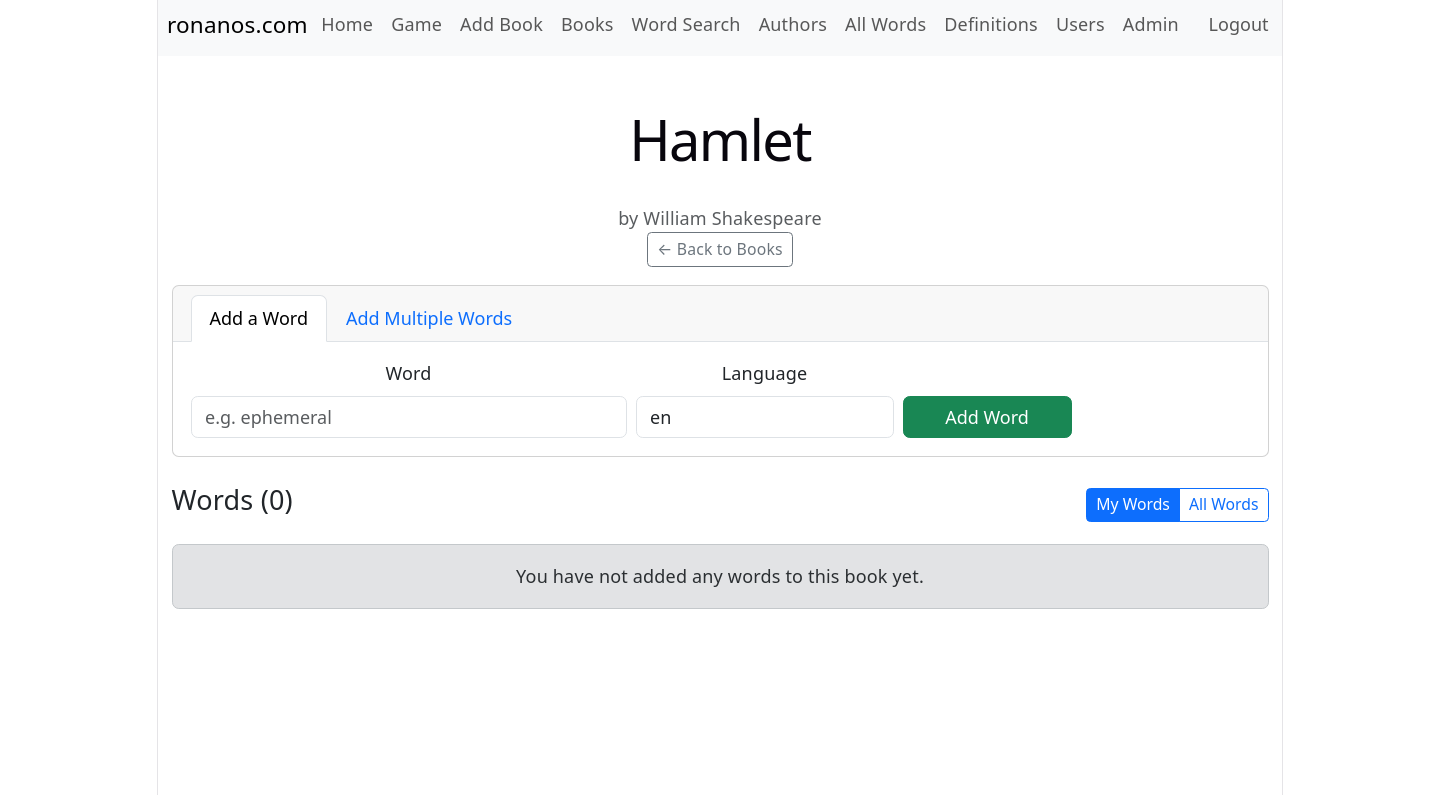
it: BookDetail › bulk adds comma-separated words and shows success summary
Expected: the heading "Hamlet" is shown, [629, 101, 811, 177]
Click the button "Add Multiple Words".
click(429, 318)  # box [327, 295, 531, 342]
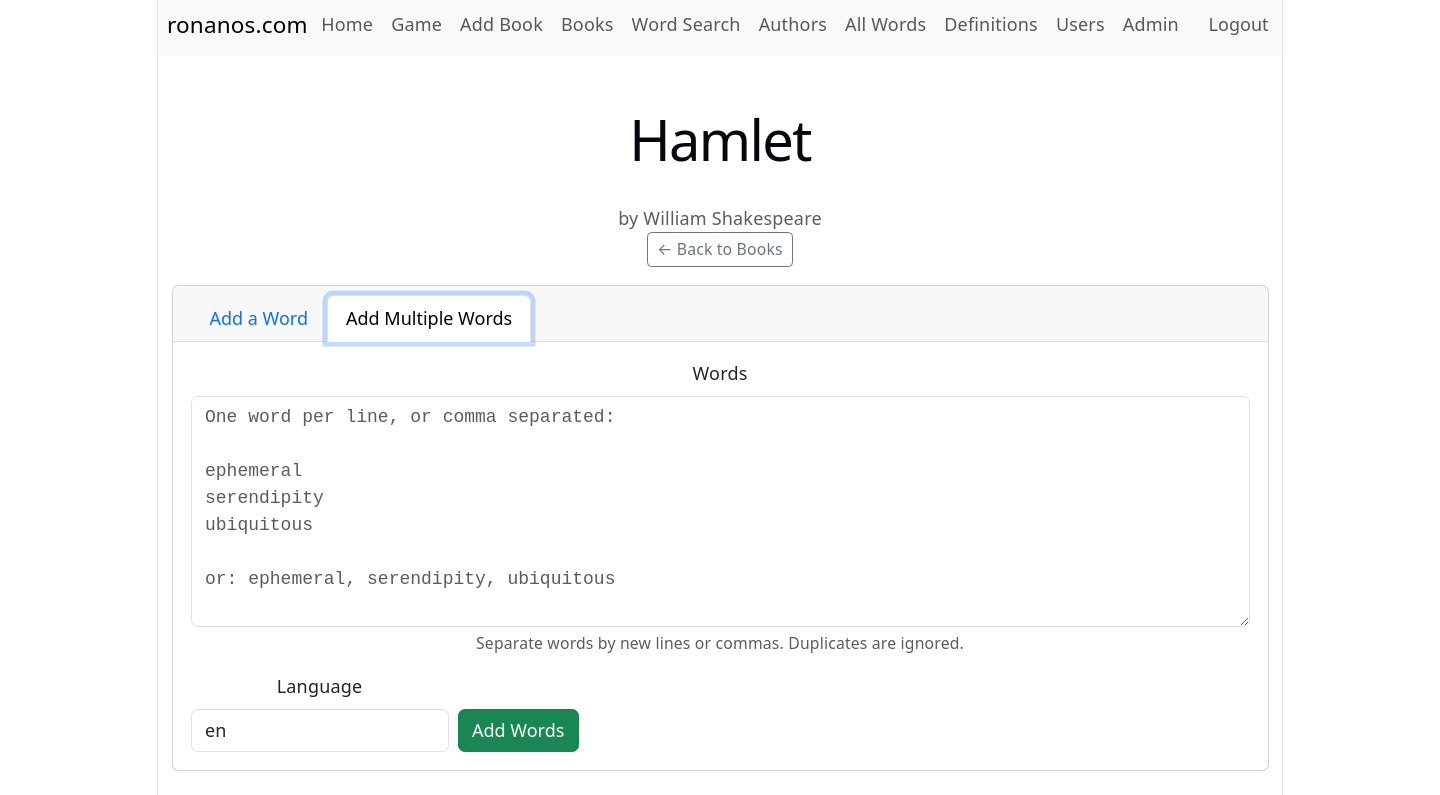
Type "serendipity, ephemeral" into the text box labelled "Words".
click(720, 512); type("serendipity, ephemeral")  # box [190, 396, 1250, 627]
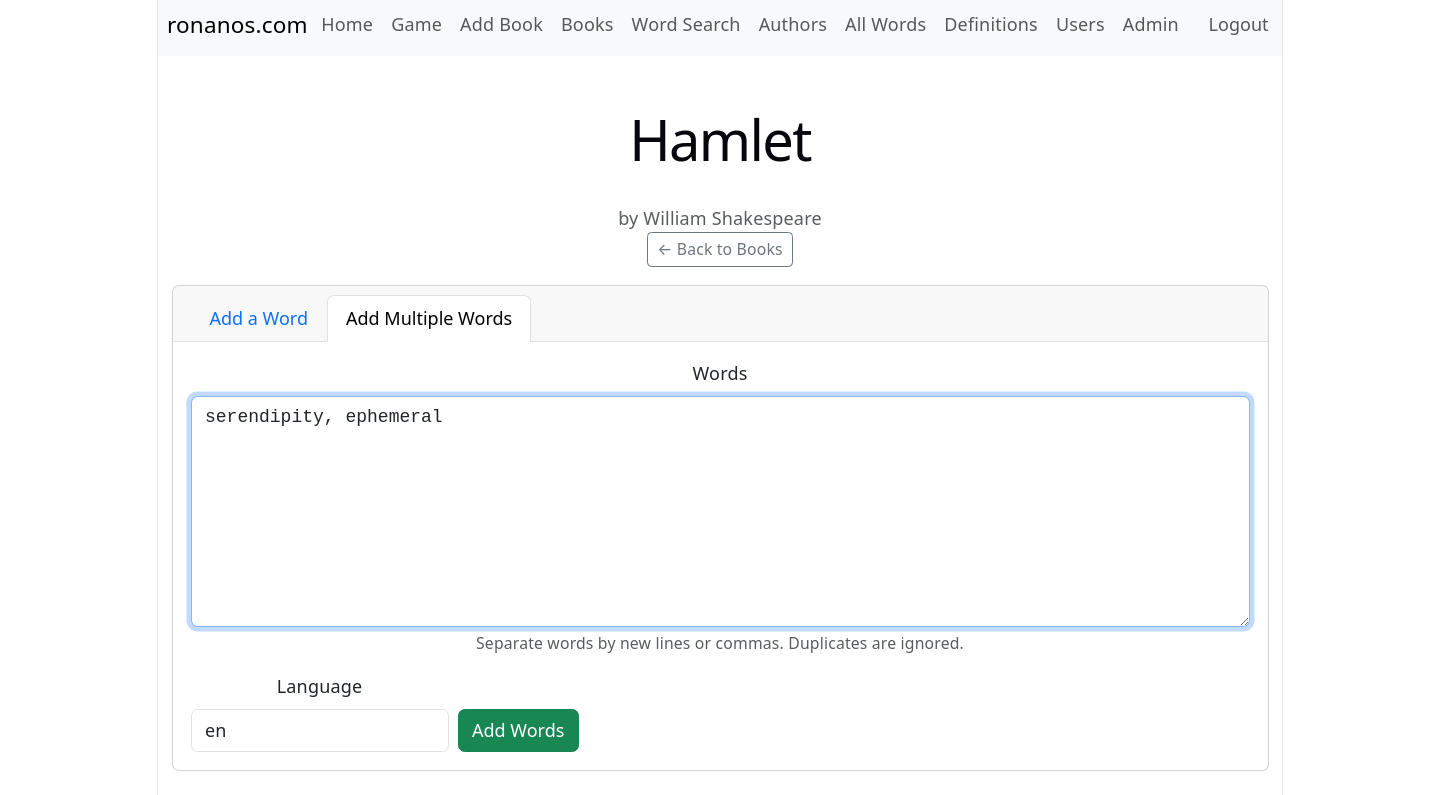
Click the button "Add Words".
click(518, 731)  # box [458, 709, 579, 752]
(page scrolled)
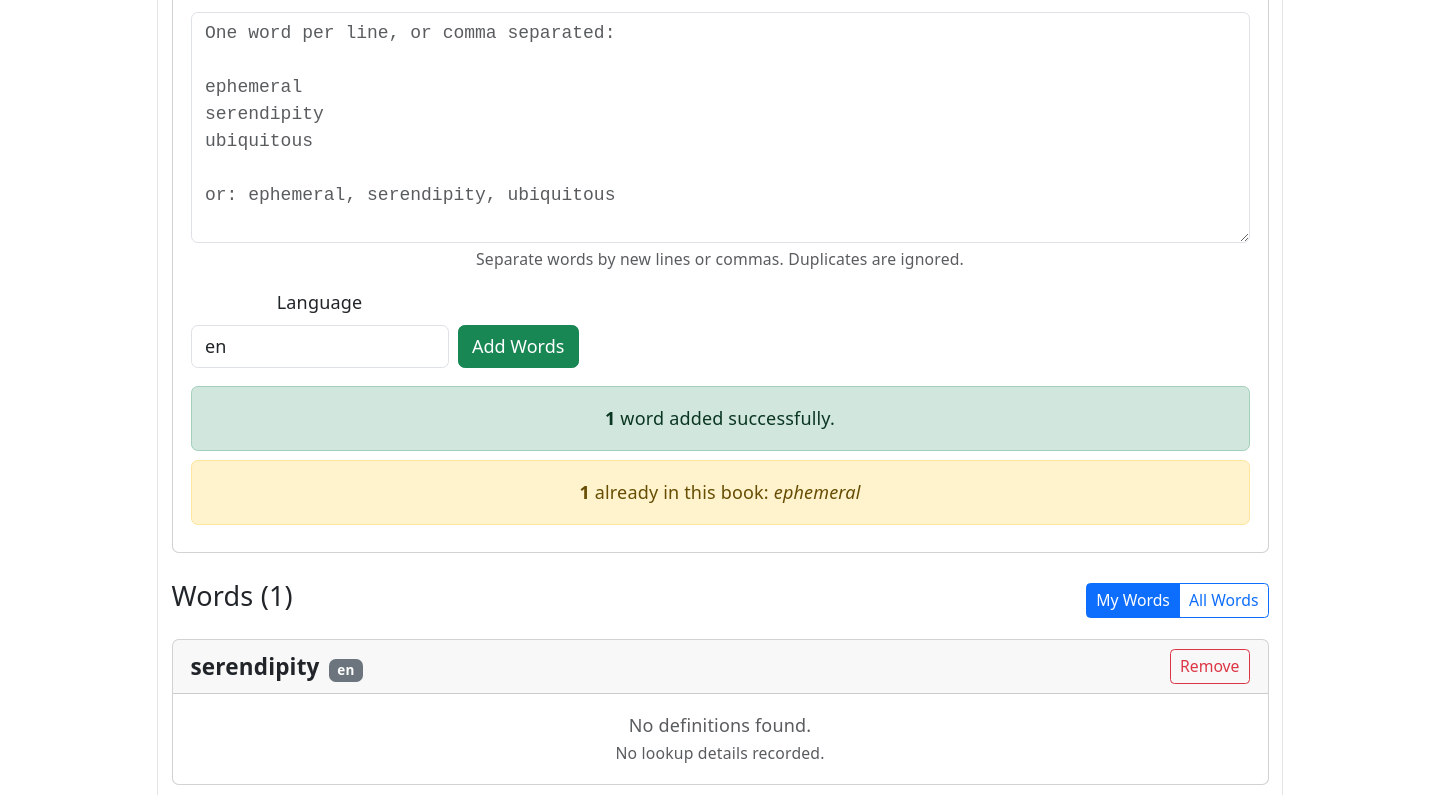
Expected: the element with class "alert-success" reads "1 word added successfully.", [190, 386, 1250, 451]
Expected: the element with class "alert-warning" reads "1 already in this book: ephemeral", [190, 460, 1250, 525]
Expected: the element with class "alert-warning" shows "ephemeral", [774, 480, 860, 504]
